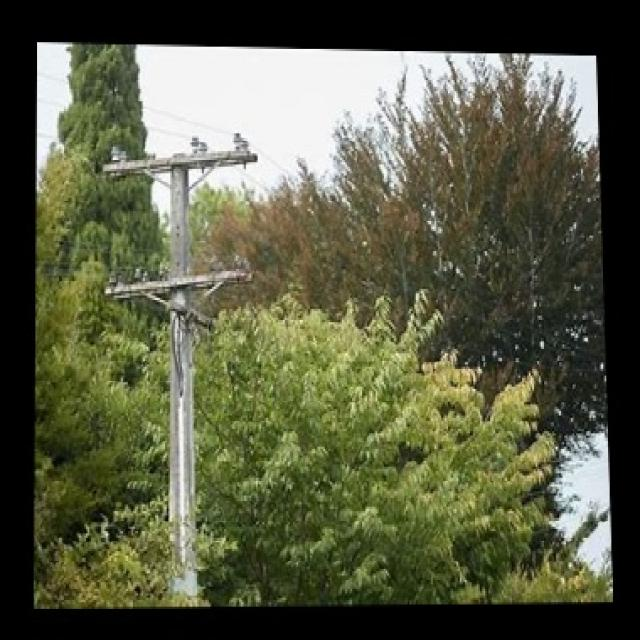utility poles: (107, 106, 252, 597)
